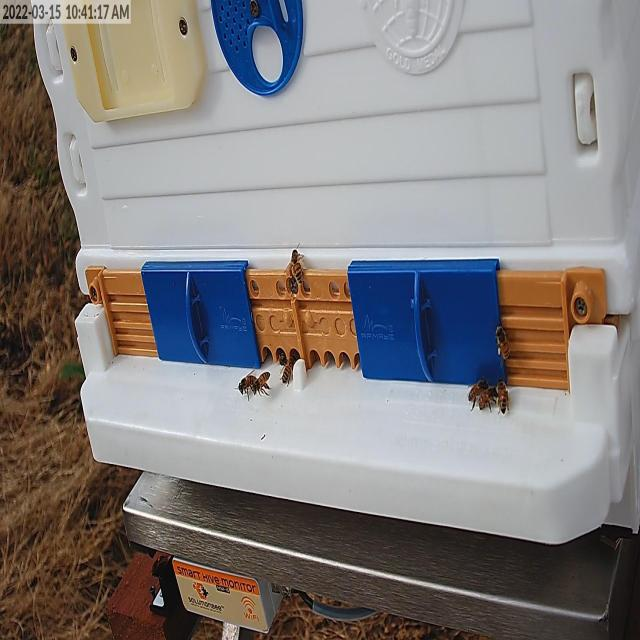honeybee: (285, 246, 307, 288), (496, 326, 512, 364), (495, 381, 510, 419), (466, 382, 489, 406), (251, 367, 268, 399), (279, 360, 297, 388), (237, 372, 254, 398), (479, 386, 496, 408)
